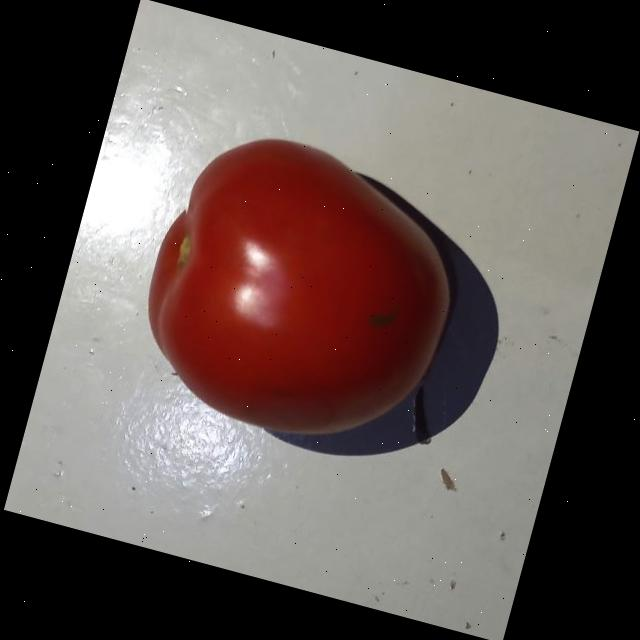tomato: (115, 97, 502, 477)
